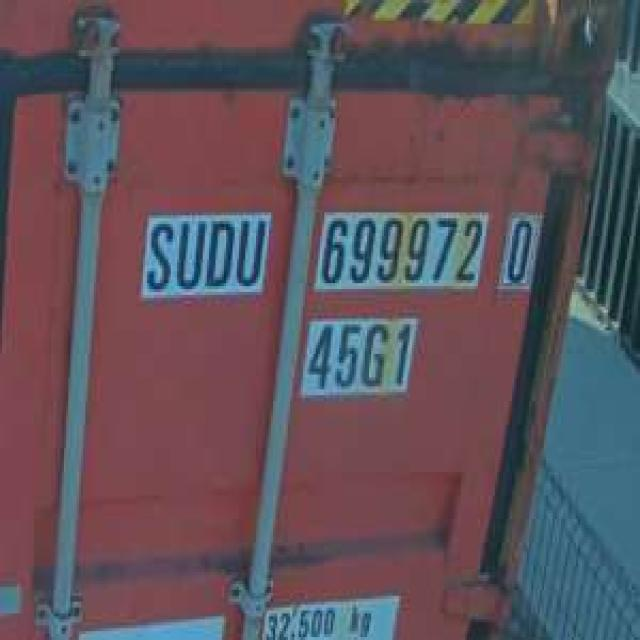dv: (499, 206, 540, 292)
owner: (136, 209, 269, 298)
serial: (314, 206, 486, 292)
size: (301, 316, 420, 398)
